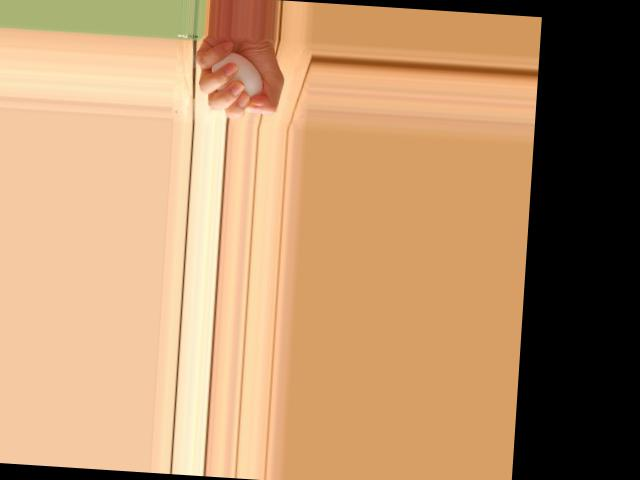egg: (209, 50, 264, 97)
